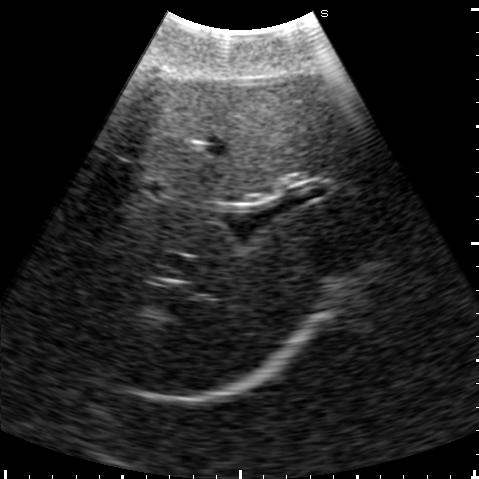S3: (299, 69, 409, 189)
S4: (126, 72, 321, 200)
